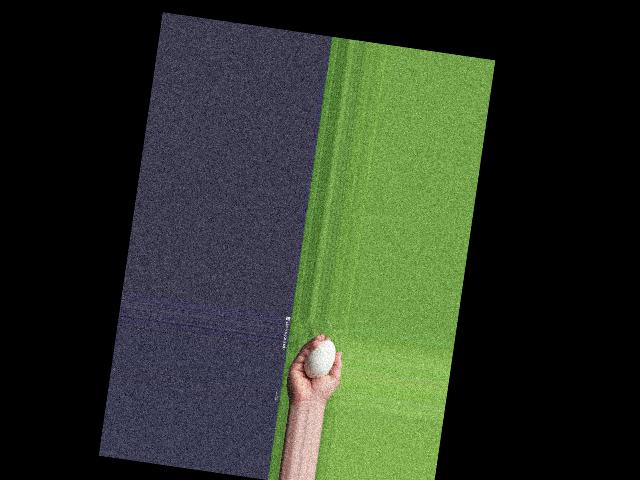egg: (301, 337, 337, 382)
